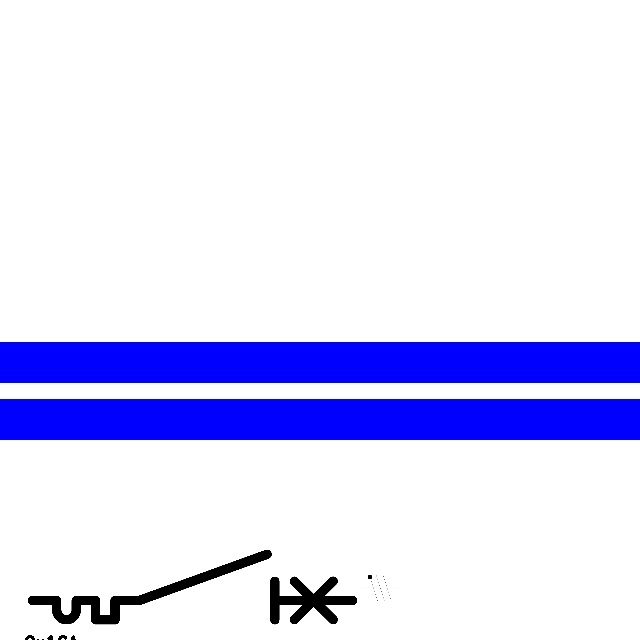interruptor_termomagnetico: (24, 546, 361, 628)
